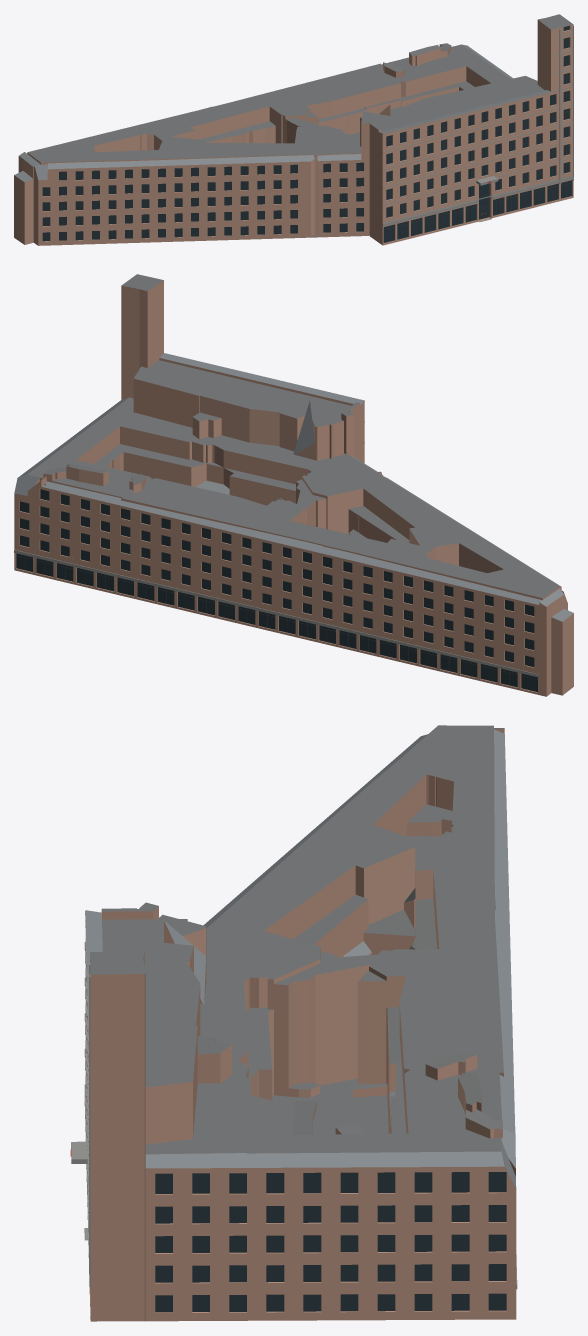
File: recipe-large-oba-javaplein.glb
3 renders of one model, top to bottom at view 1: azimuth 30°, elevation 25°; view 2: azimuth 150°, elevation 25°; view 3: azimuth 270°, elevation 25°, orthographic. The views are drawn at different scales.
Parts seen in each view (by area): view 1: oba-javaplein; view 2: oba-javaplein; view 3: oba-javaplein.
Part boxes in pixels (x1,y1,x2,y2): oba-javaplein: [14, 14, 573, 245]; oba-javaplein: [14, 274, 573, 696]; oba-javaplein: [70, 725, 517, 1321].
Size of the model in its own units: 100 by 36.11 by 41.99.
